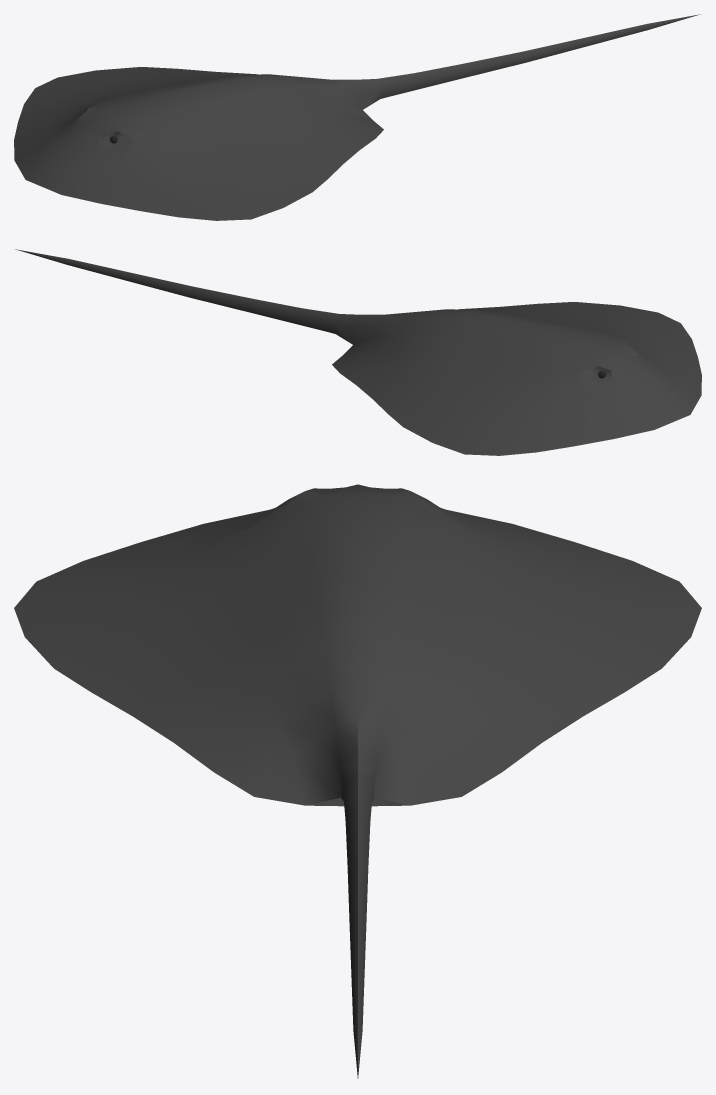
The model's file is Skat_001.glb.
The picture shows the model from 3 angles, top to bottom: view 1: azimuth 30°, elevation 25°; view 2: azimuth 150°, elevation 25°; view 3: azimuth 270°, elevation 25°; orthographic projection. The views are drawn at different scales.
Visible parts, largest first — view 1: Skat_001; view 2: Skat_001; view 3: Skat_001.
Boxes of the visible parts, x1,y1,x2,y2 form: Skat_001: [14, 14, 700, 220]; Skat_001: [15, 249, 701, 455]; Skat_001: [14, 484, 701, 1078].
Bounding box in the file's own units: 1.67 × 0.1537 × 0.8269.
Materials: 1 (1 with a texture image).
